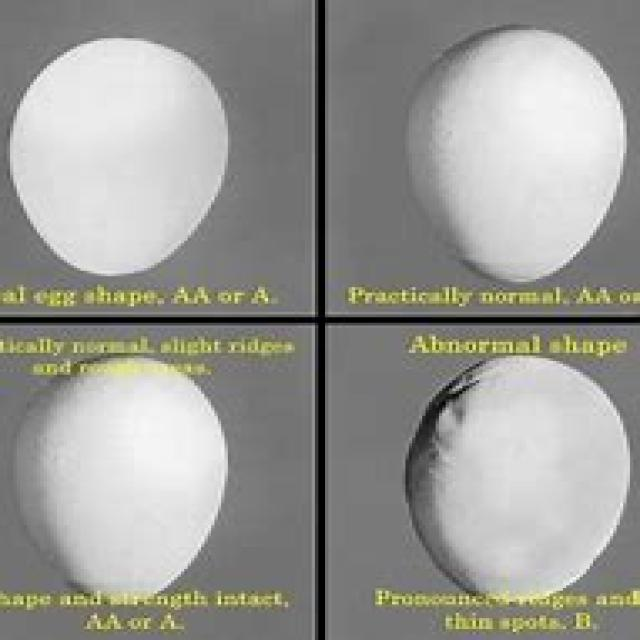White Egg: (0, 344, 245, 616), (400, 21, 633, 291)
